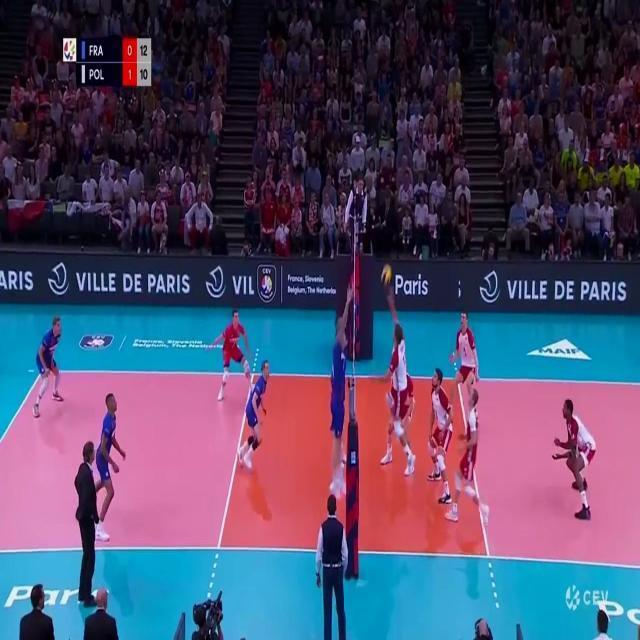volleyball: (380, 266, 393, 284)
